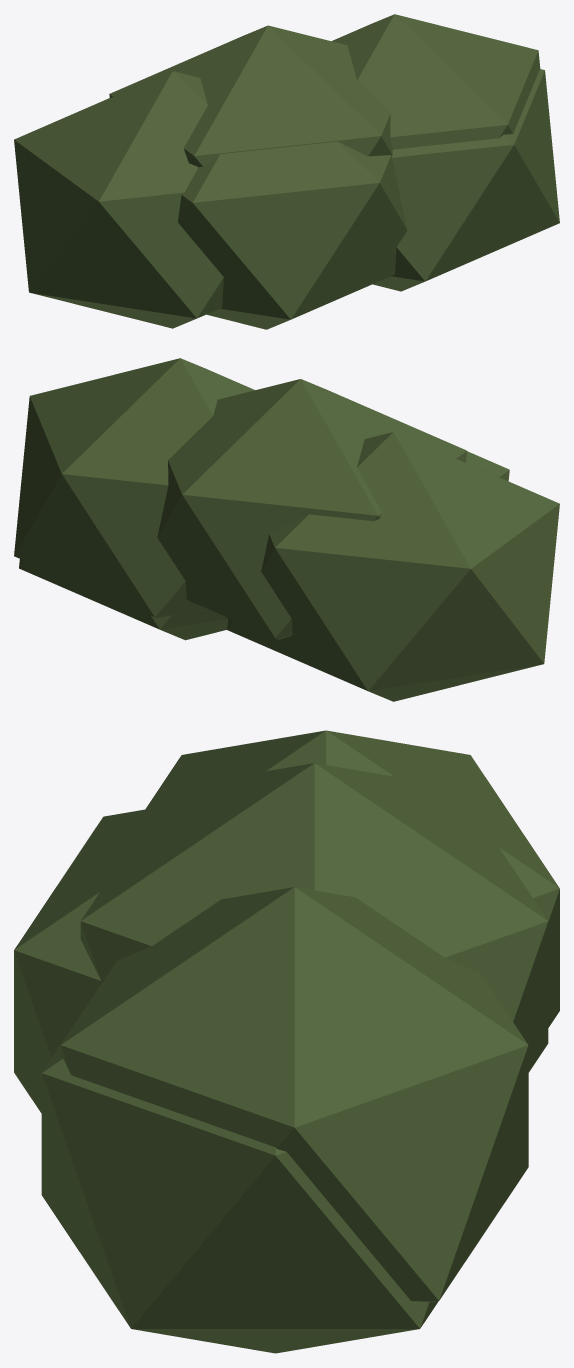
File: bush.glb
3 renders of one model, top to bottom at view 1: azimuth 30°, elevation 25°; view 2: azimuth 150°, elevation 25°; view 3: azimuth 270°, elevation 25°, orthographic. The views are drawn at different scales.
Visible parts, largest first — view 1: bush; view 2: bush; view 3: bush.
Part boxes in pixels (box(x1,y1,x2,y2)): bush: box(14, 14, 559, 329); bush: box(14, 358, 559, 701); bush: box(14, 730, 559, 1353).
Bounding box in the file's own units: 1.51 × 0.8251 × 0.8342.
